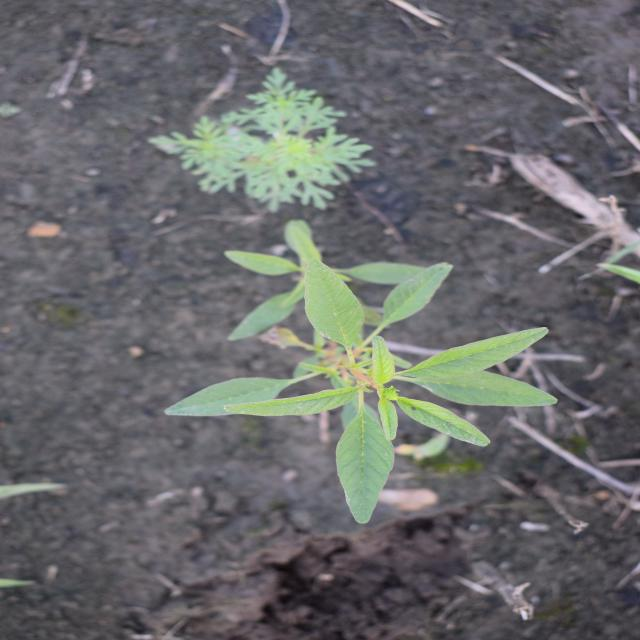Ragweed: (143, 66, 381, 214)
Waterhemp: (162, 218, 560, 526)
